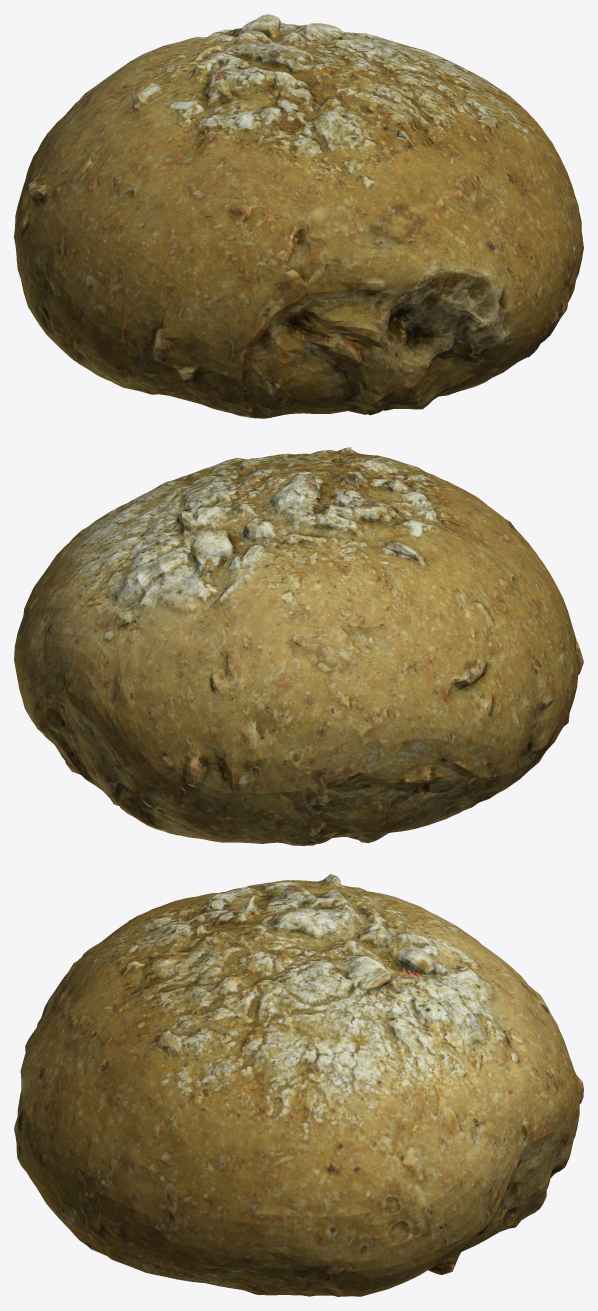
Rendered from Brown Bread.obj.
3 views of the same model, one above another, from view 1: azimuth 30°, elevation 25°; view 2: azimuth 150°, elevation 25°; view 3: azimuth 270°, elevation 25° (orthographic). The views are drawn at different scales.
Parts seen in each view (by area): view 1: Low1; view 2: Low1; view 3: Low1.
Boxes of the visible parts, box(x1,y1,x2,y2) form: Low1: box(14, 14, 583, 418); Low1: box(14, 447, 583, 845); Low1: box(14, 874, 583, 1296).
Size of the model in its own units: 11.38 by 6.32 by 11.02.
Materials: 1 (1 with a texture image).
